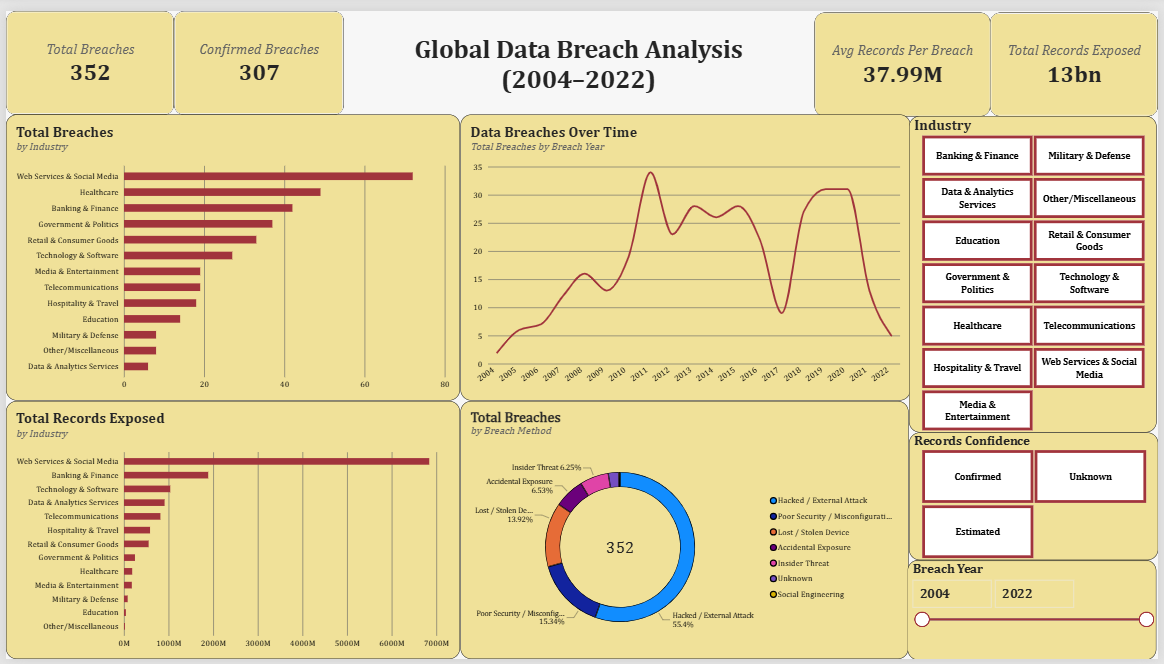

This screenshot's page, from the dashboard's own definition file:
{"tool":"powerbi","page":{"name":"Page 1","canvas":[1920,1080],"ordinal":0},"visuals":[{"type":"cardVisual","fields":{"Data":["df_1 (2).Total Breaches"]},"box":[0,0,280,173.3],"z":0},{"type":"cardVisual","fields":{"Data":["df_1 (2).Confirmed Breaches"]},"box":[280,0,283.3,173.3],"z":1000},{"type":"cardVisual","fields":{"Data":["df_1 (2).Avg Records Per Breach"]},"box":[1346.7,3.3,293.3,173.3],"z":2000},{"type":"cardVisual","fields":{"Data":["df_1 (2).Total Records Exposed"]},"box":[1640,3.3,280,173.3],"z":3000},{"type":"lineChart","title":"Data Breaches Over Time","fields":{"Category":["df_1 (2).Breach Year"],"Y":["df_1 (2).Total Breaches"]},"box":[756.7,173.3,750,476.7],"z":4000},{"type":"clusteredBarChart","fields":{"Category":["df_1 (2).Industry"],"Y":["df_1 (2).Total Breaches"]},"box":[0,173.3,756.7,476.7],"z":5000},{"type":"donutChart","fields":{"Category":["df_1 (2).Breach Method"],"Y":["df_1 (2).Total Breaches"]},"box":[756.7,650,746.7,430],"z":6000},{"type":"clusteredBarChart","fields":{"Category":["df_1 (2).Industry"],"Y":["df_1 (2).Total Records Exposed"]},"box":[0,650,756.7,430],"z":7000},{"type":"slicer","fields":{"Values":["df_1 (2).Breach Year"]},"box":[1503.7,914.8,414.8,166.7],"z":8000},{"type":"slicer","fields":{"Values":["df_1 (2).Industry"]},"box":[1505,175,412.5,527.5],"z":9000},{"type":"slicer","fields":{"Values":["df_1 (2).Records Confidence"]},"box":[1505,702.5,415,212.5],"z":10000},{"type":"textbox","box":[563.3,36.7,783.3,140],"z":11000}]}

Visuals, with their boxes in screenshot pixels (x1, y1, x2, y2), scaled from the page's 1920x1080 canvas onto the 1164x664 screenshot:
cardVisual - df_1 (2).Total Breaches: (x1=0, y1=0, x2=170, y2=107)
cardVisual - df_1 (2).Confirmed Breaches: (x1=170, y1=0, x2=342, y2=107)
cardVisual - df_1 (2).Avg Records Per Breach: (x1=816, y1=2, x2=994, y2=109)
cardVisual - df_1 (2).Total Records Exposed: (x1=994, y1=2, x2=1163, y2=109)
"Data Breaches Over Time" lineChart: (x1=459, y1=107, x2=913, y2=400)
clusteredBarChart - df_1 (2).Industry x df_1 (2).Total Breaches: (x1=0, y1=107, x2=459, y2=400)
donutChart - df_1 (2).Breach Method x df_1 (2).Total Breaches: (x1=459, y1=400, x2=911, y2=663)
clusteredBarChart - df_1 (2).Industry x df_1 (2).Total Records Exposed: (x1=0, y1=400, x2=459, y2=663)
slicer - df_1 (2).Breach Year: (x1=912, y1=562, x2=1163, y2=663)
slicer - df_1 (2).Industry: (x1=912, y1=108, x2=1162, y2=432)
slicer - df_1 (2).Records Confidence: (x1=912, y1=432, x2=1163, y2=563)
textbox: (x1=342, y1=23, x2=816, y2=109)
